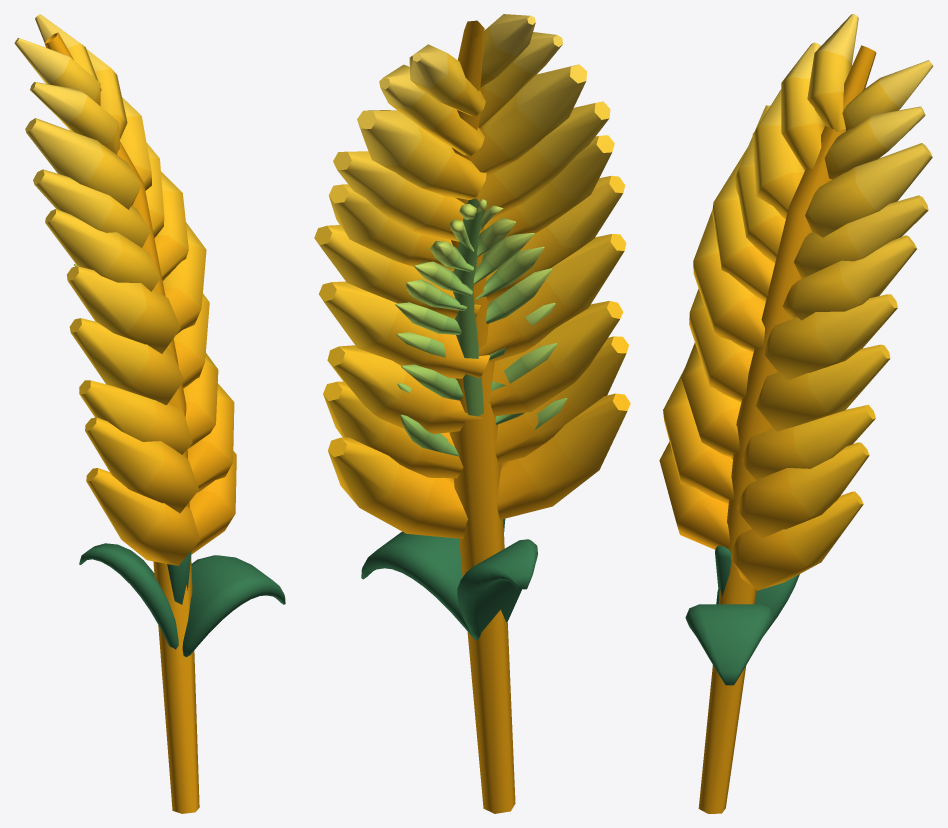
The model's file is Buğday.fbx.
3 renders of one model, left to right at view 1: azimuth 30°, elevation 25°; view 2: azimuth 150°, elevation 25°; view 3: azimuth 270°, elevation 25°, orthographic. The views are drawn at different scales.
Parts seen in each view (by area): view 1: Lv3, LV1; view 2: Lv3, LV2, LV1; view 3: Lv3, LV1.
Part boxes in pixels (<box>): Lv3: <box>14,14,236,813</box>; LV1: <box>79,543,285,656</box>; Lv3: <box>314,14,630,813</box>; LV2: <box>395,198,567,456</box>; LV1: <box>361,518,537,639</box>; Lv3: <box>659,14,933,813</box>; LV1: <box>685,545,799,685</box>.
Size of the model in its own units: 0.3788 by 1.18 by 0.391.
